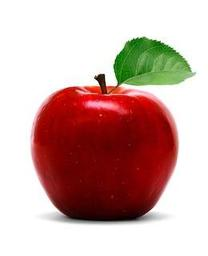apple: (29, 73, 179, 220)
